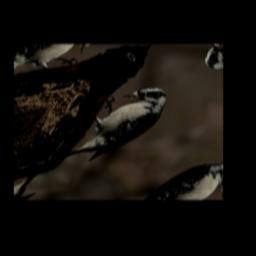Woodpecker: (41, 74, 182, 174)
